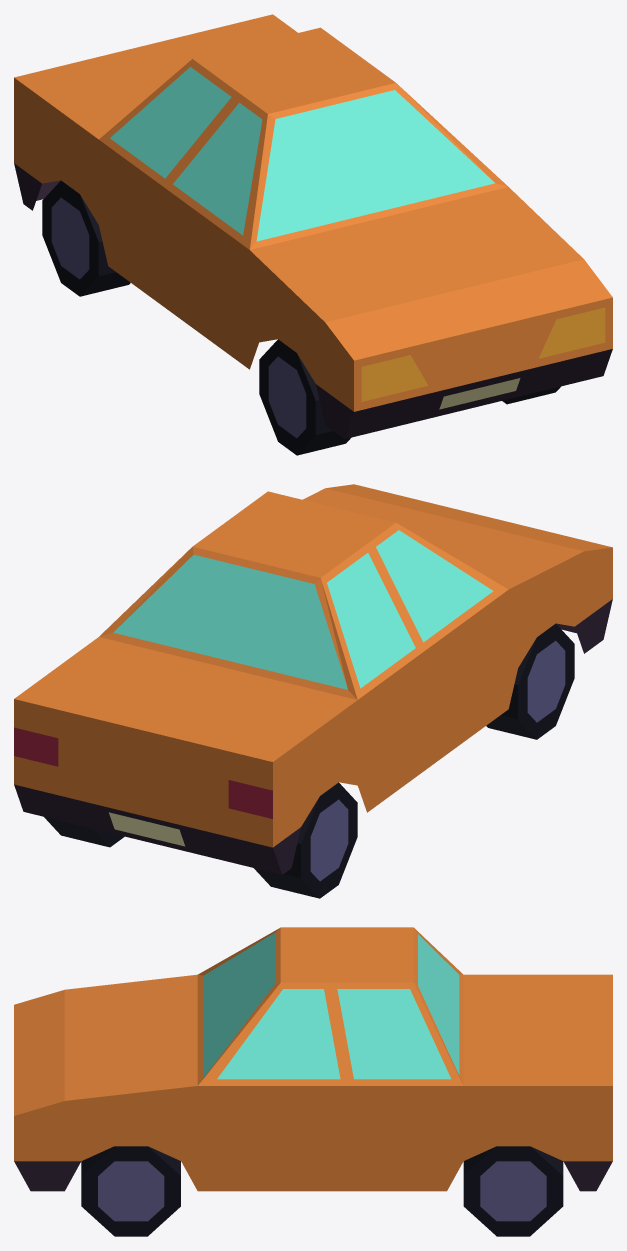
File: car3.obj
3 renders of one model, top to bottom at view 1: azimuth 30°, elevation 25°; view 2: azimuth 150°, elevation 25°; view 3: azimuth 270°, elevation 25°, orthographic. The views are drawn at different scales.
Visible parts, largest first — view 1: CAR3; view 2: CAR3; view 3: CAR3.
Part boxes in pixels (x1=…): CAR3: x1=14, y1=14, x2=612, y2=455; CAR3: x1=14, y1=484, x2=612, y2=898; CAR3: x1=14, y1=927, x2=612, y2=1236.
Bounding box in the file's own units: 1.58 × 1.5 × 3.6.
